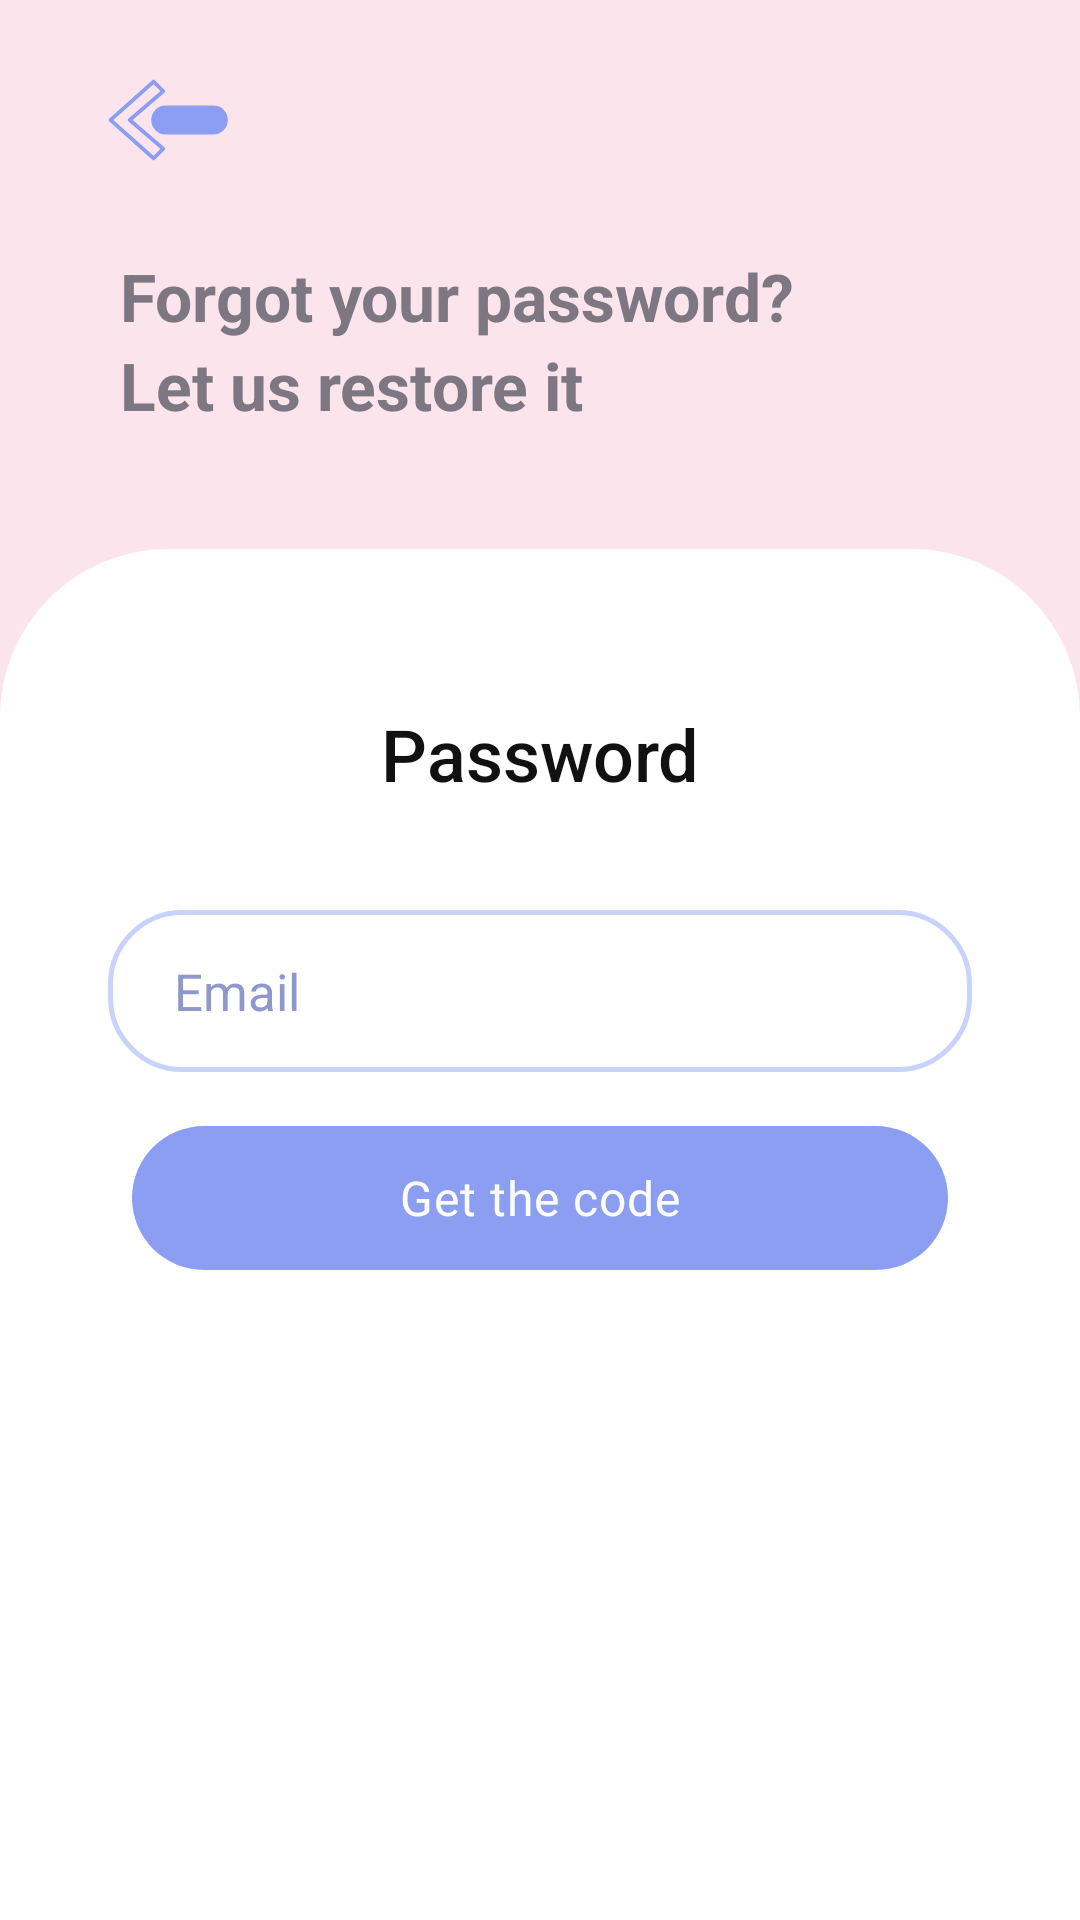

Icon click points for this 1080×1920 phone screenshot, format [x,y]:
Back: [168,120]
